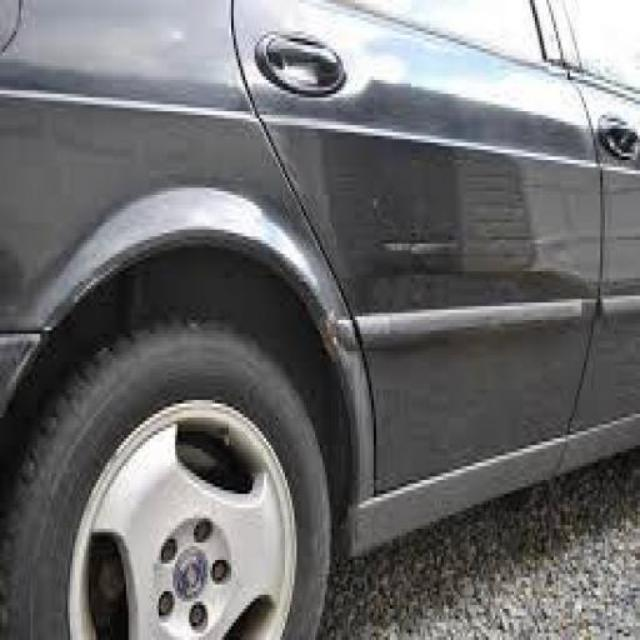rub: (307, 270, 400, 391)
scratch: (378, 224, 637, 260)
